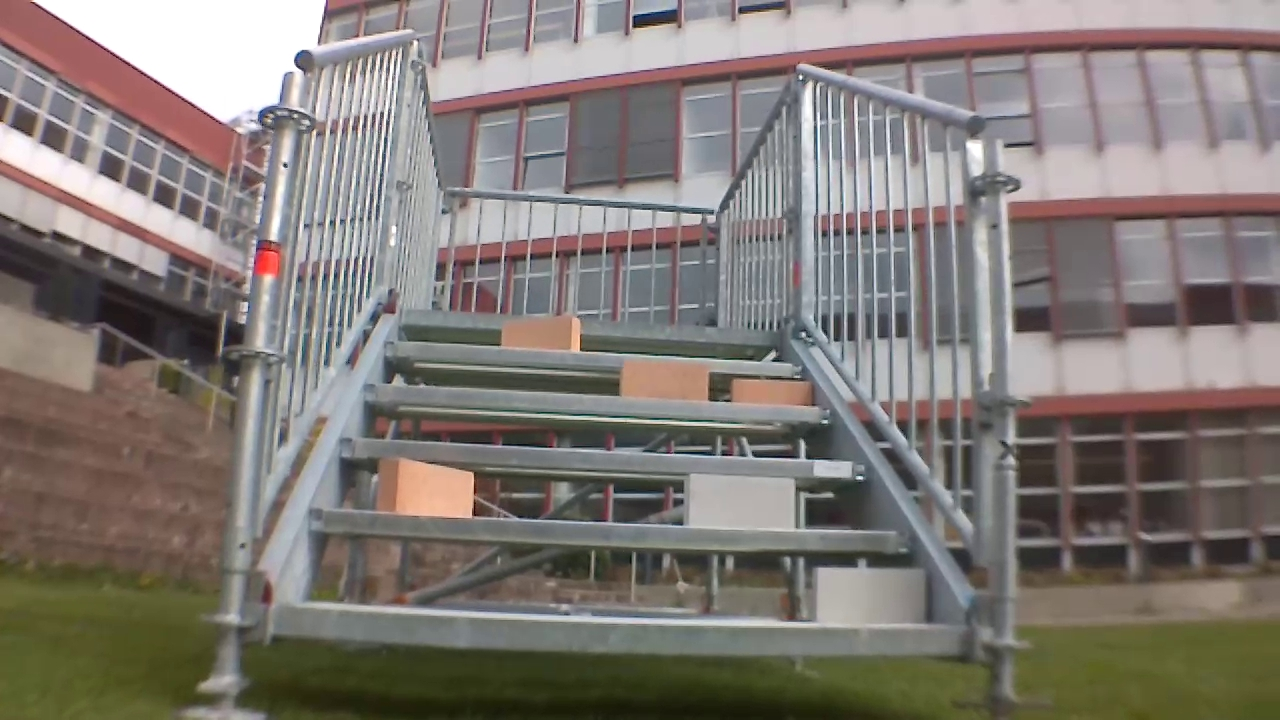brick: (684, 474, 794, 530), (814, 568, 926, 622), (377, 458, 473, 515), (619, 361, 708, 401), (502, 318, 580, 351), (729, 378, 811, 404)
edge: (274, 604, 967, 657), (312, 508, 910, 555), (338, 436, 866, 481), (367, 383, 829, 428), (402, 305, 779, 345), (384, 342, 802, 377)
stairs: (175, 30, 1051, 717)
steps: (263, 296, 976, 665)
